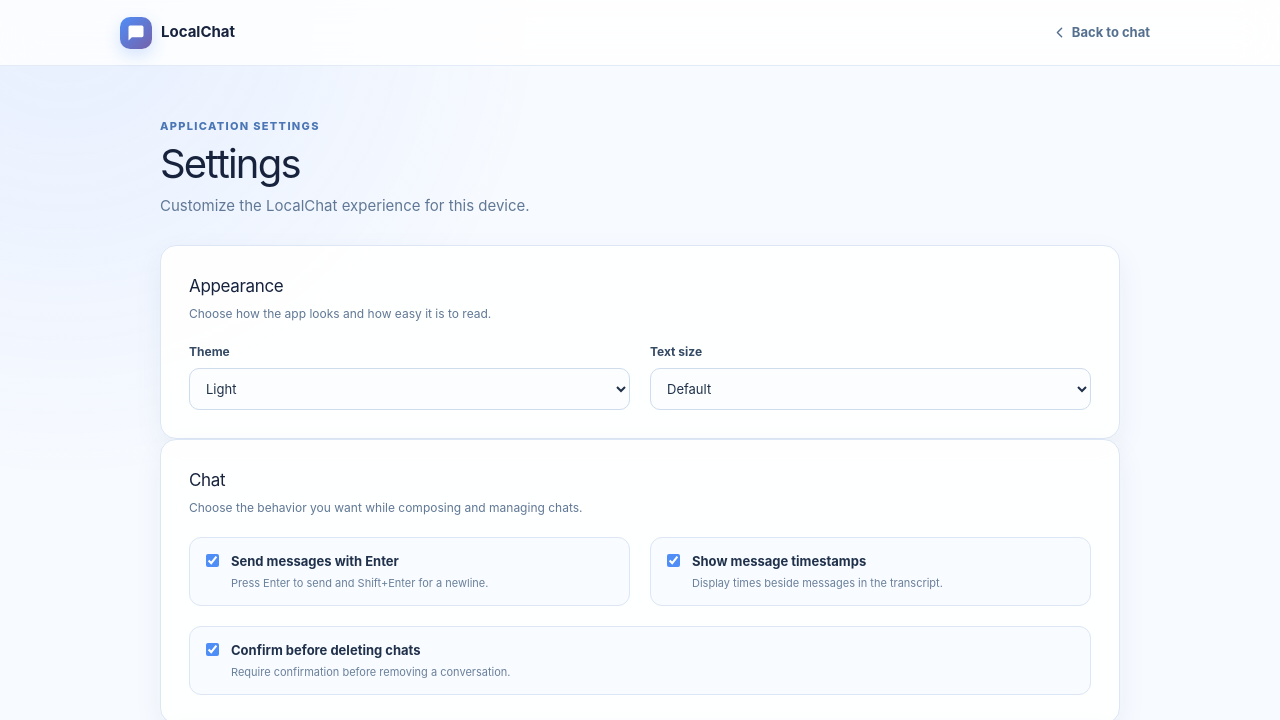
Test case: SettingsPage › persists edited settings and reports success
The image size is (1280, 720).
Select "Dark" in the dropdown labelled "Theme" at (410, 389), box x1=189 y1=368 x2=630 y2=410
(page scrolled)
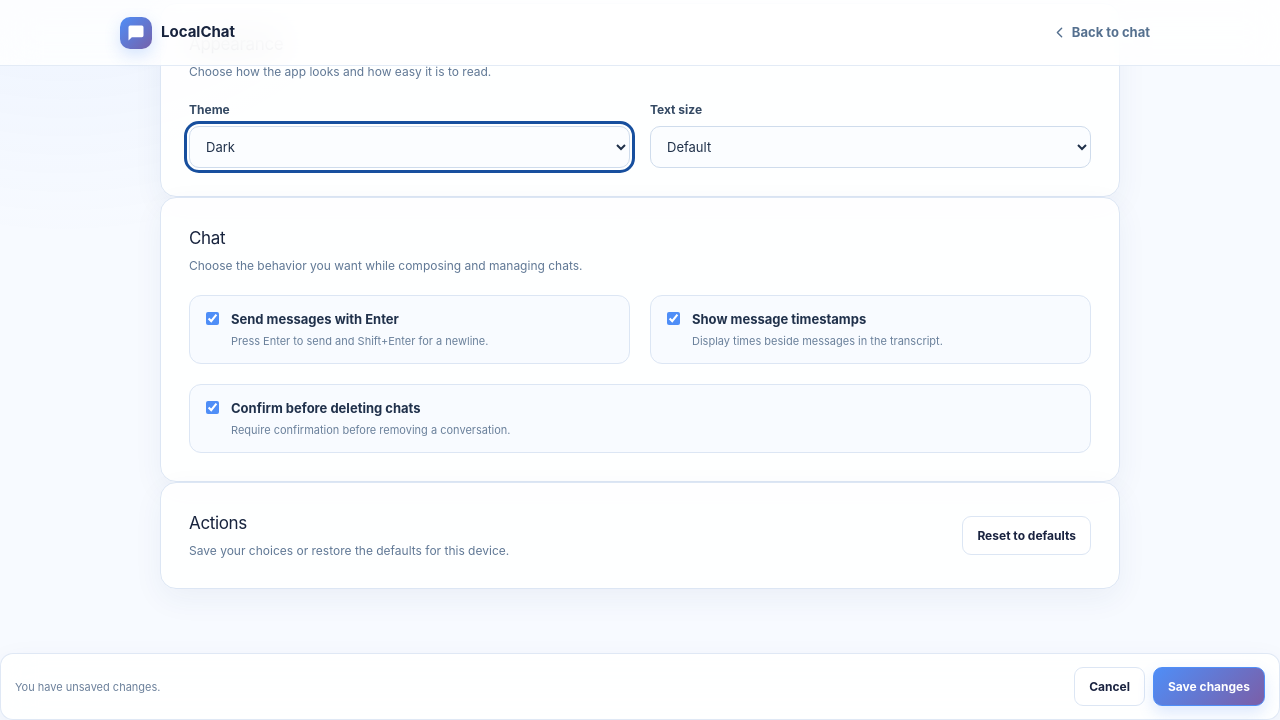
Check: the button "Save changes" is enabled
Click the button "Save changes".
click(1209, 687)  # box x1=1153 y1=667 x2=1265 y2=706
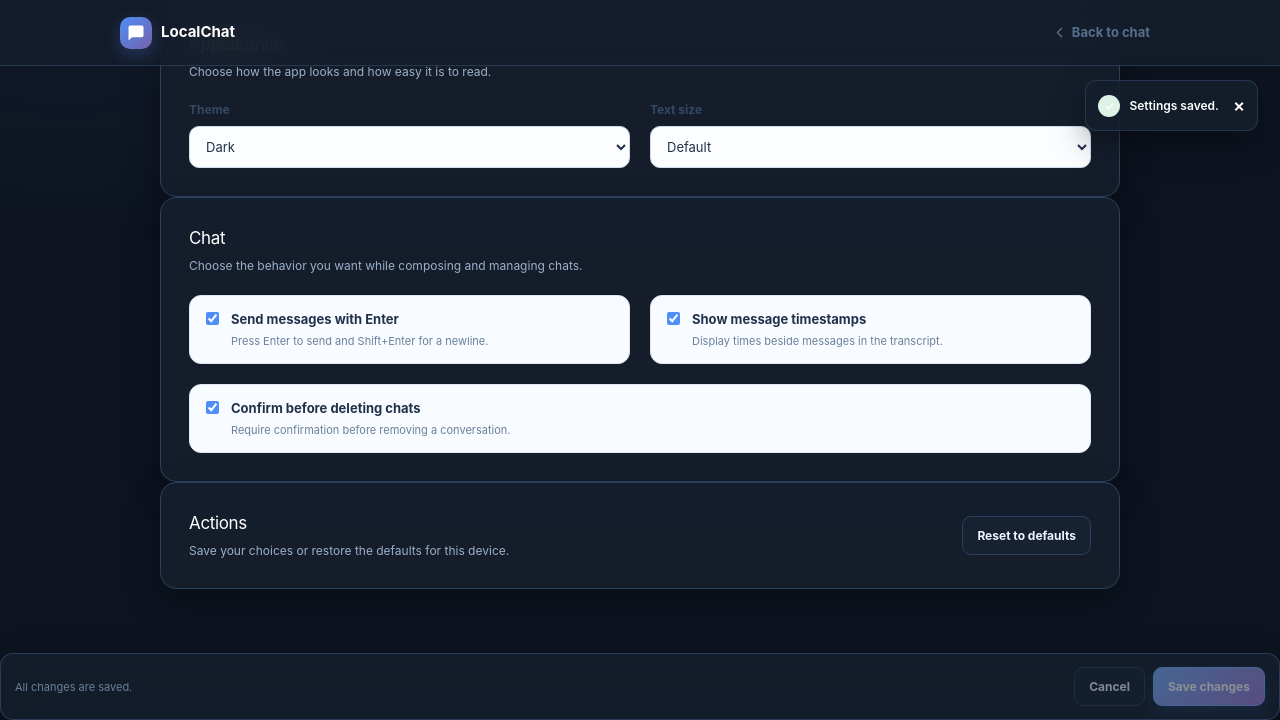
Check: the message shows "Settings saved.", box x1=1130 y1=98 x2=1219 y2=112
